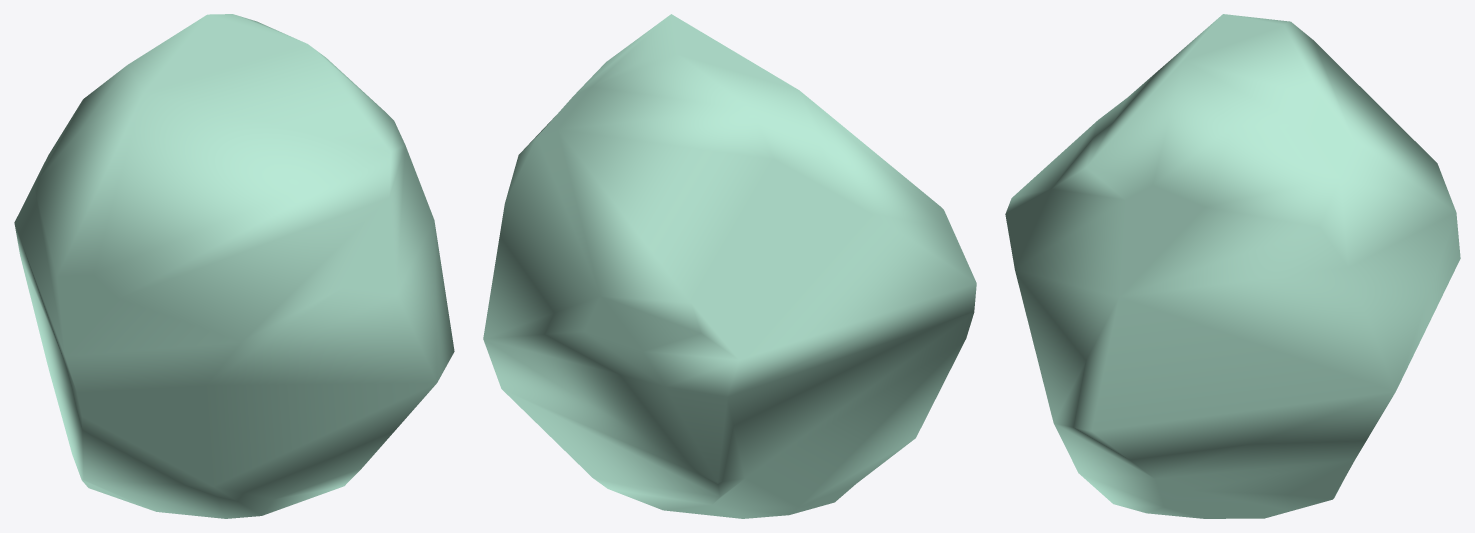
Rendered from Boulder.fbx.
3 renders of one model, left to right at view 1: azimuth 30°, elevation 25°; view 2: azimuth 150°, elevation 25°; view 3: azimuth 270°, elevation 25°, orthographic. The views are drawn at different scales.
Visible parts, largest first — view 1: Boulder; view 2: Boulder; view 3: Boulder.
Boxes of the visible parts, bbox=[...] form: Boulder: bbox=[14, 14, 454, 518]; Boulder: bbox=[483, 14, 976, 518]; Boulder: bbox=[1005, 14, 1460, 518].
Bounding box in the file's own units: 95.55 × 103 × 94.83.
